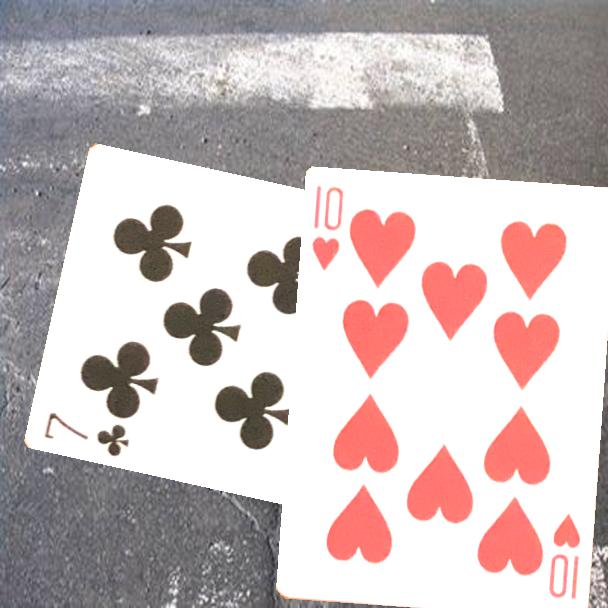c07: (40, 409, 131, 460)
h10: (546, 511, 584, 603), (309, 182, 347, 274)
